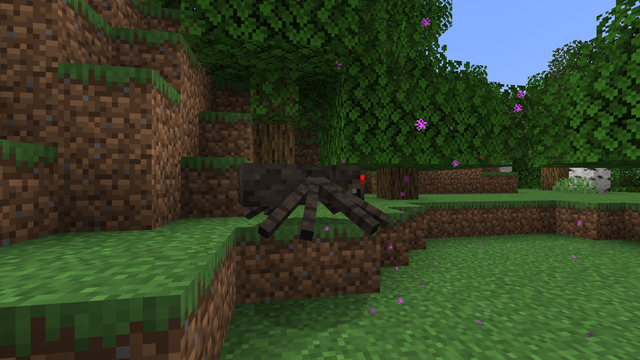araignees: (255, 153, 379, 237)
